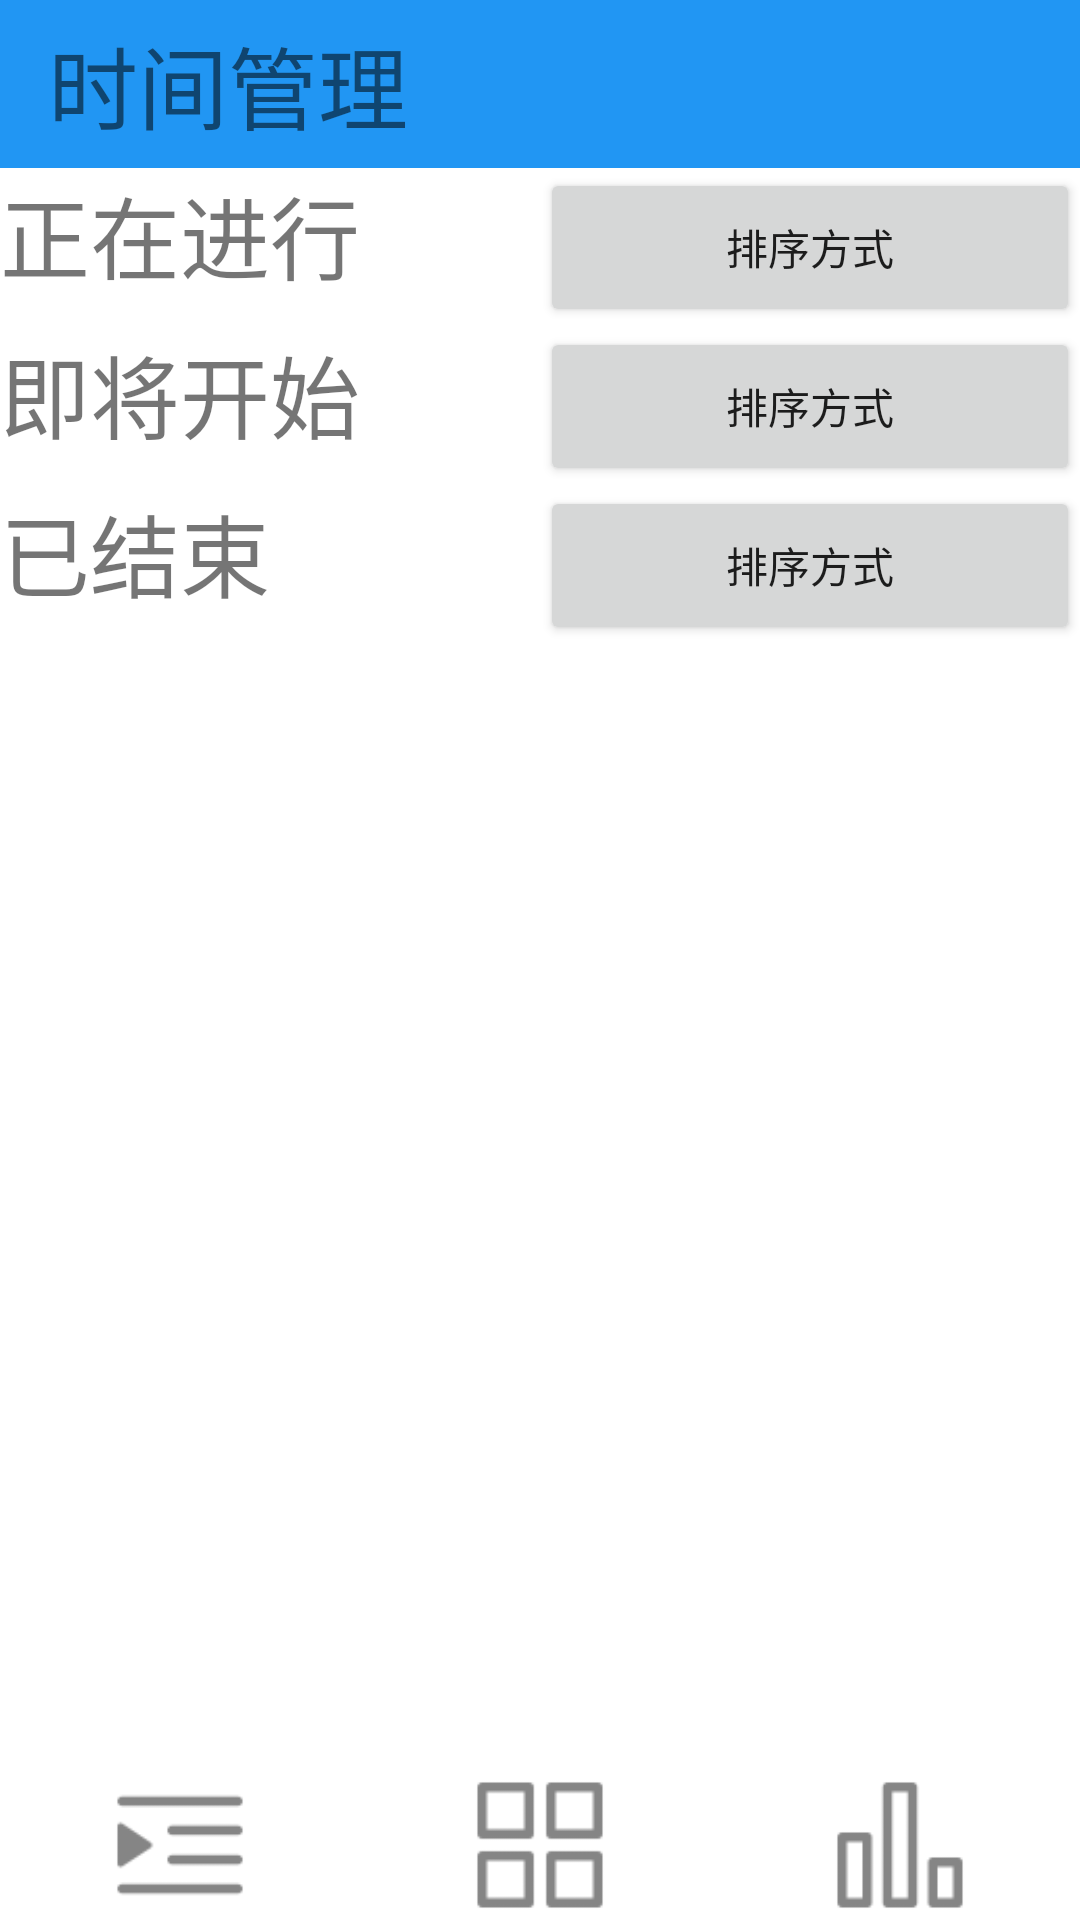

Point at icon controls on the screen. Image size 1080×1920, points as point (x, y).
total: point (900, 1845)
type: point (540, 1845)
